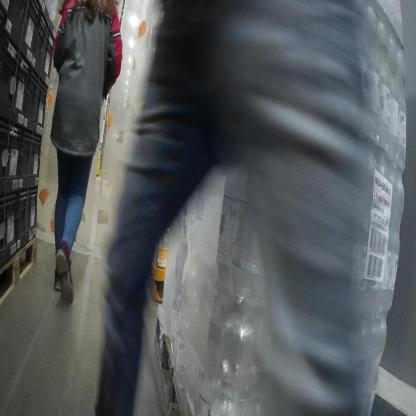pallet: (2, 235, 37, 309), (152, 308, 175, 407)
